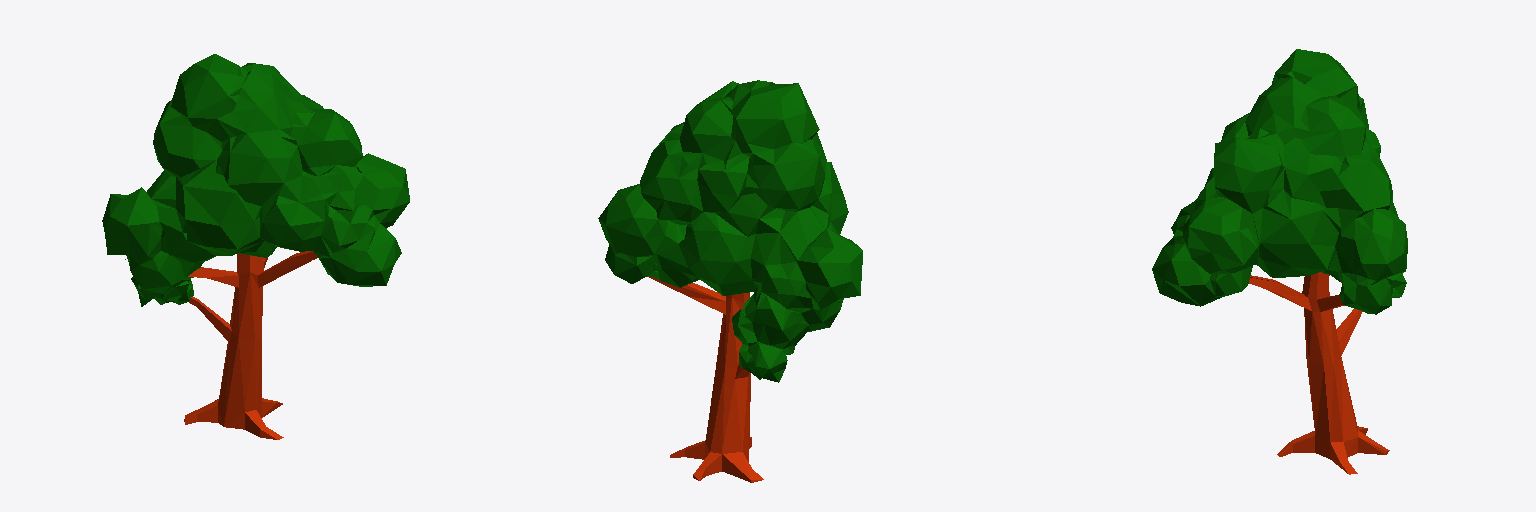
Rendered from tree4.obj.
3 views of the same model, side by side, from view 1: azimuth 30°, elevation 25°; view 2: azimuth 150°, elevation 25°; view 3: azimuth 270°, elevation 25° (orthographic).
Visible parts, largest first — view 1: _6_tree; view 2: _6_tree; view 3: _6_tree.
Boxes of the visible parts, x1=… form: _6_tree: x1=102, y1=54, x2=409, y2=439; _6_tree: x1=598, y1=80, x2=862, y2=482; _6_tree: x1=1152, y1=49, x2=1407, y2=474.
Size of the model in its own units: 1.74 by 2.6 by 1.6.